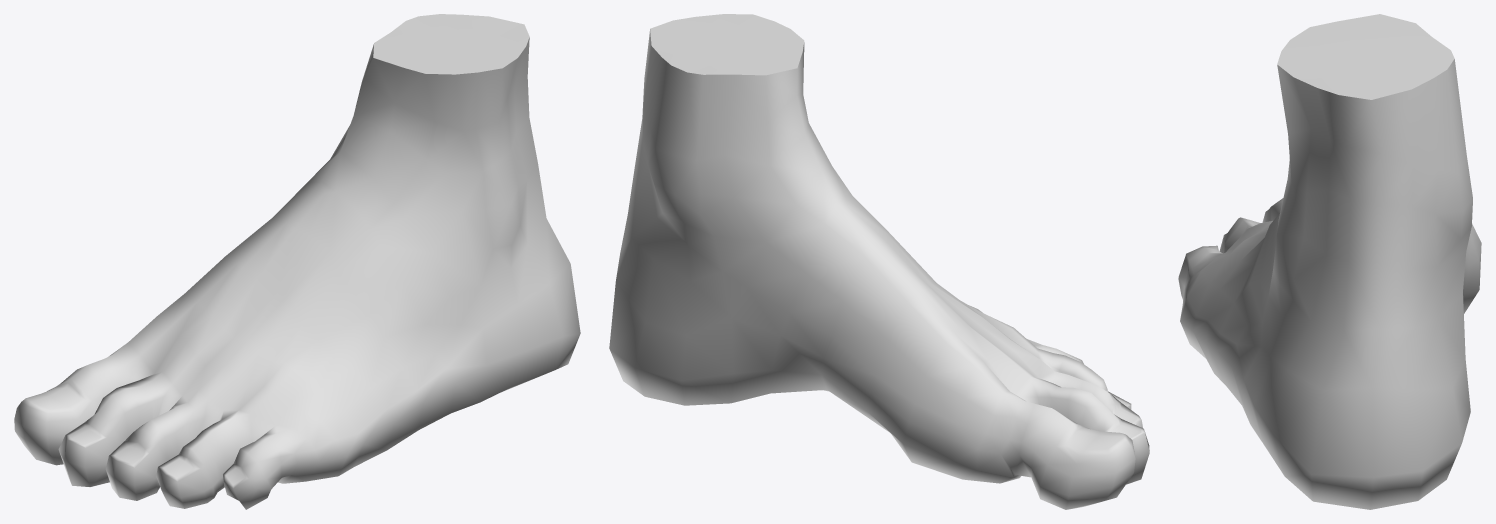
Rendered from left.dae.
3 renders of one model, left to right at view 1: azimuth 30°, elevation 25°; view 2: azimuth 150°, elevation 25°; view 3: azimuth 270°, elevation 25°, orthographic. The views are drawn at different scales.
Visible parts, largest first — view 1: pPlane3; view 2: pPlane3; view 3: pPlane3.
Part boxes in pixels (x1,y1,x2,y2): pPlane3: (14,14,580,509); pPlane3: (609,14,1149,509); pPlane3: (1178,14,1481,509).
Size of the model in its own units: 9.12 by 5.76 by 3.83.
Materials: 1 (1 with a texture image).
